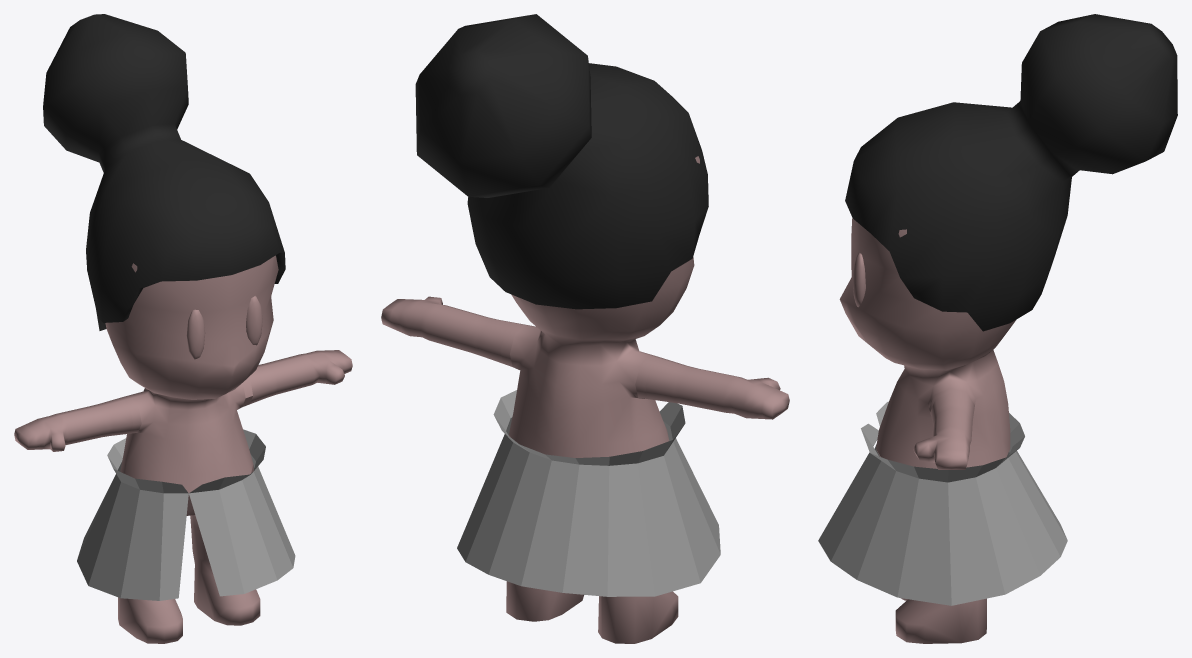
File: SK_Garde_Hiro.fbx
3 views of the same model, side by side, from view 1: azimuth 30°, elevation 25°; view 2: azimuth 150°, elevation 25°; view 3: azimuth 270°, elevation 25° (orthographic). The views are drawn at different scales.
Parts seen in each view (by area): view 1: SK_Guarde_Hiro; view 2: SK_Guarde_Hiro; view 3: SK_Guarde_Hiro.
Part boxes in pixels (x1=…): SK_Guarde_Hiro: x1=14, y1=14, x2=352, y2=643; SK_Guarde_Hiro: x1=381, y1=14, x2=789, y2=643; SK_Guarde_Hiro: x1=818, y1=14, x2=1177, y2=643.
Bounding box in the file's own units: 79.95 × 125 × 68.8.
